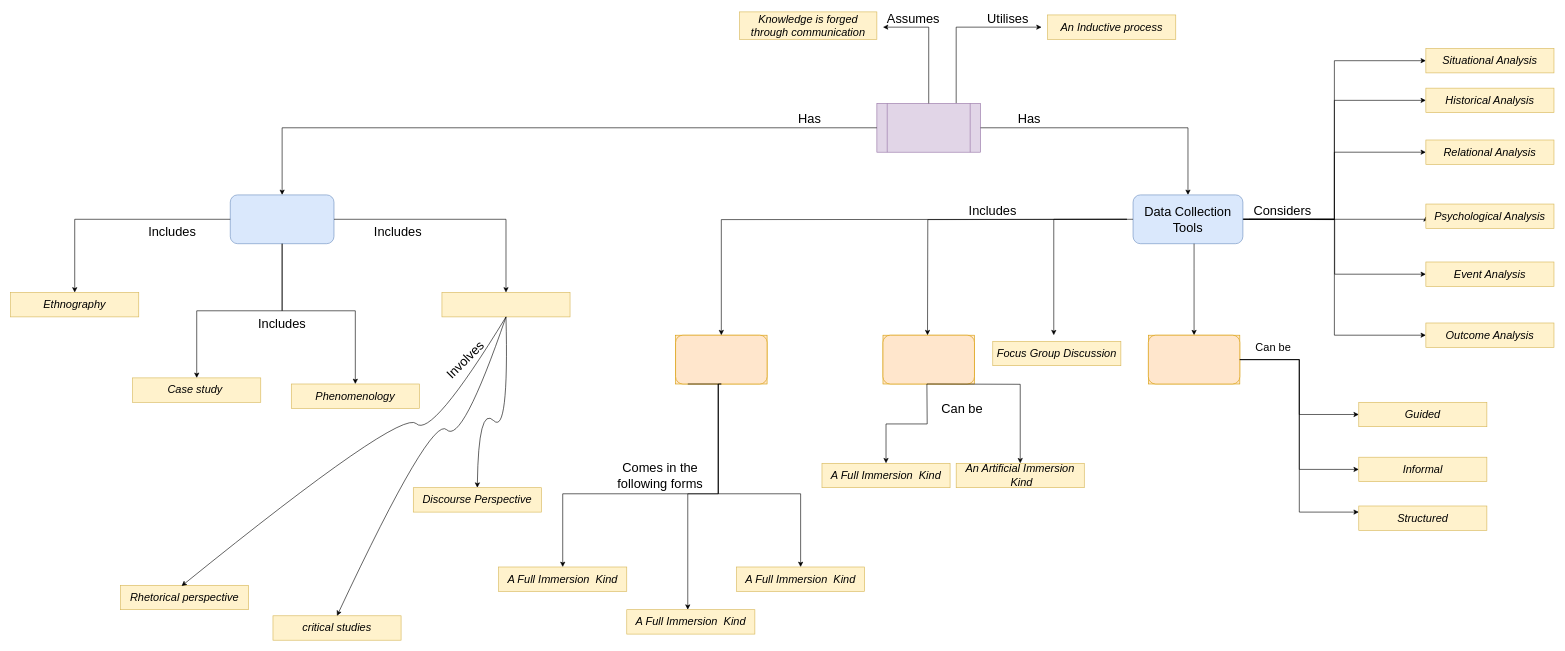
The diagram is 1565 pixels wide and 651 high, and some of its shapes have lost their labels. Here are the shapes that lost their labels. From the top down, the centre of each, then its label:
the point at 928,127: Qualitative Research
the point at 282,219: Methods
the point at 505,304: Textual analysis
the point at 721,359: Autoethnography
the point at 928,359: Observation
the point at 1194,359: Interview
